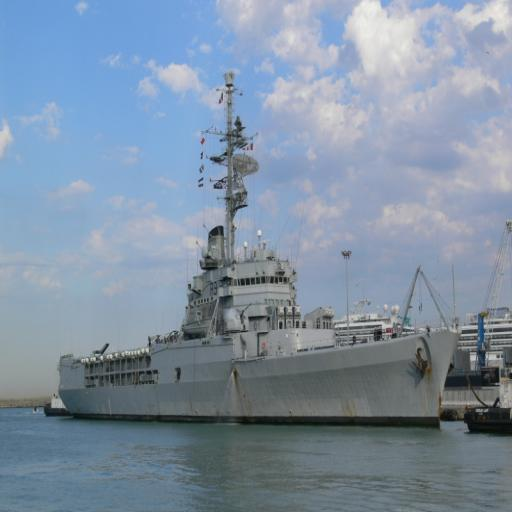Portanaves: (57, 68, 463, 434)
